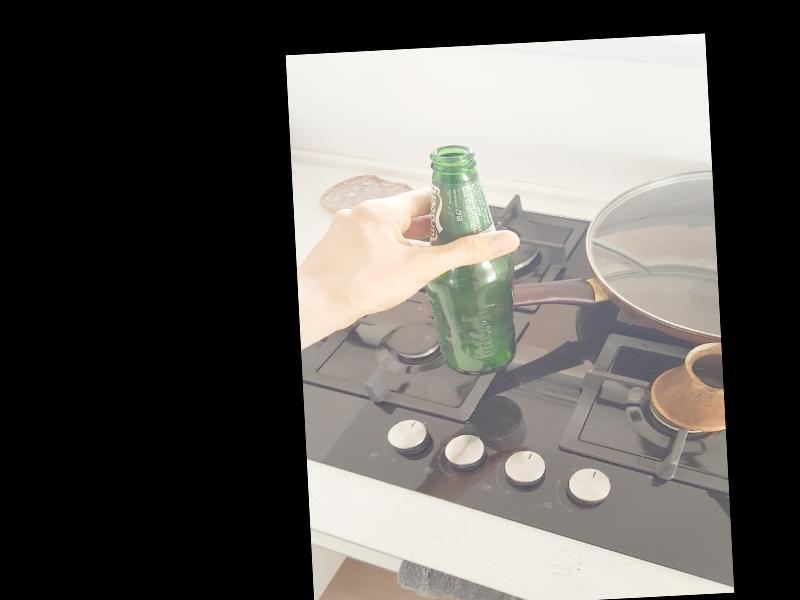Beer: (428, 144, 517, 376)
